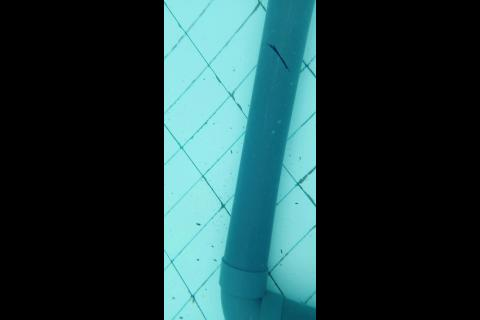keretakan: (265, 42, 289, 72)
